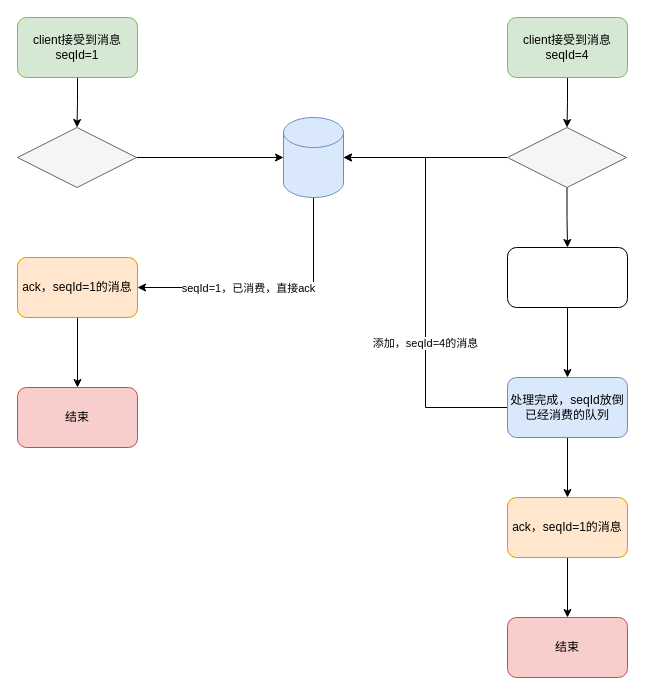
The diagram is 645 pixels wide and 695 high, and some of its shapes have lost their labels. The centre of each missing label's shape, as x and y in pixels:
seqId=1的消息是否消费: (76,157)
seqId=4的消息是否消费: (566,157)
时间区间已消费的集合， [1,2,3]: (313,157)
未消费，处理seqId=4的消息: (567,277)
